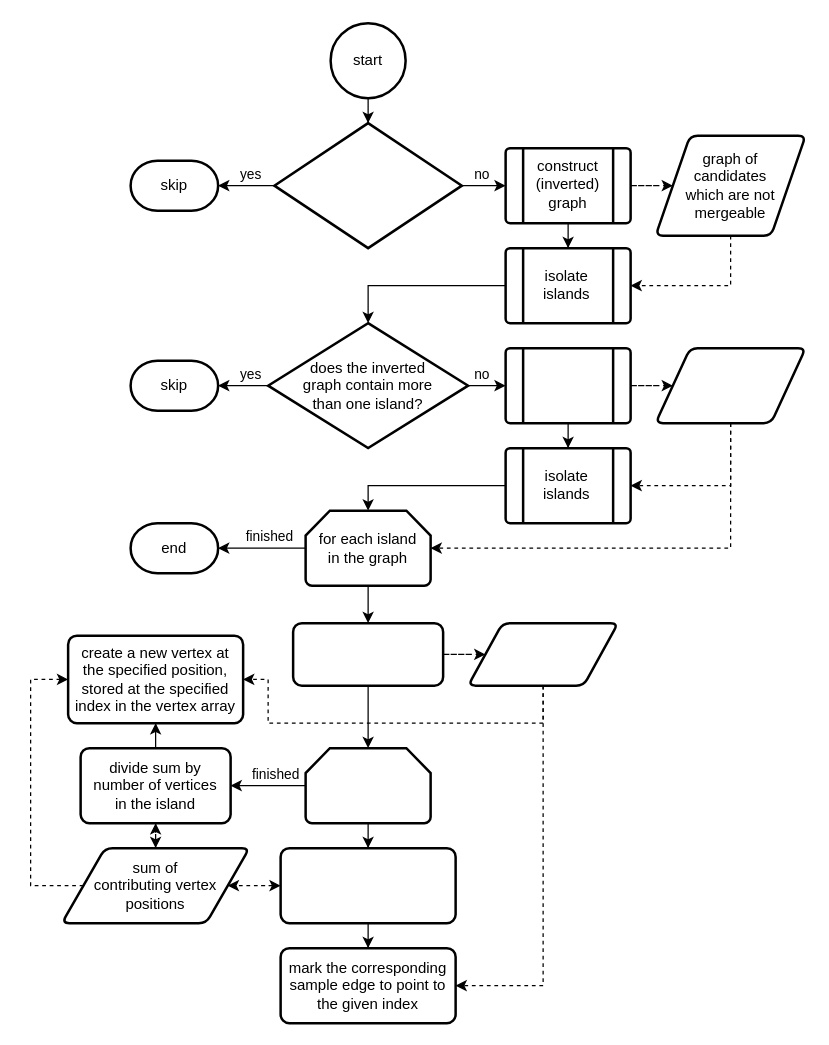
Some shapes in this 829 by 1045 pixel diagram are drawn without their labels. The box of each missing label's shape, as (x1, y1, x2, y2) in pixels:
acquire a new index into the mesh vertex array: (291, 621, 444, 686)
are more than 10 mergeable candidates present?: (272, 121, 462, 249)
compute the position of the vertex in space, add it to the sum: (279, 846, 456, 924)
construct graph: (504, 346, 631, 424)
for each candidate vertex in the island: (304, 746, 431, 824)
graph of mergeable candidates: (654, 346, 806, 424)
mesh vertex index: (466, 621, 619, 686)
